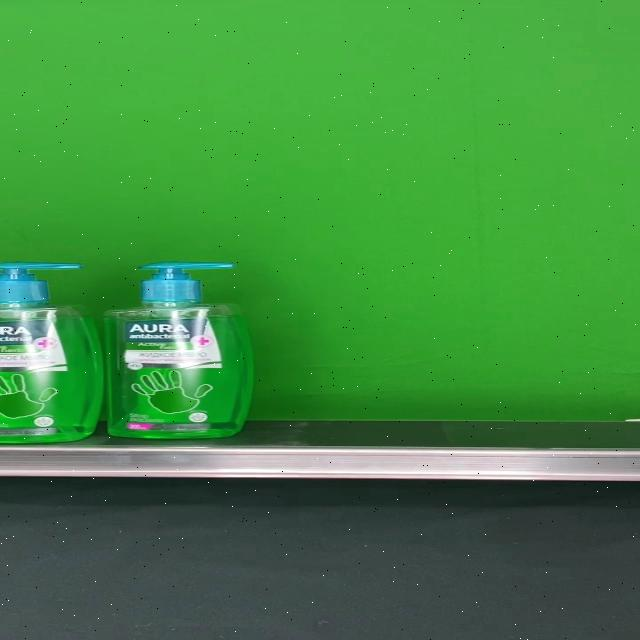Bottle: (104, 262, 253, 439)
Cap: (138, 262, 233, 302)
